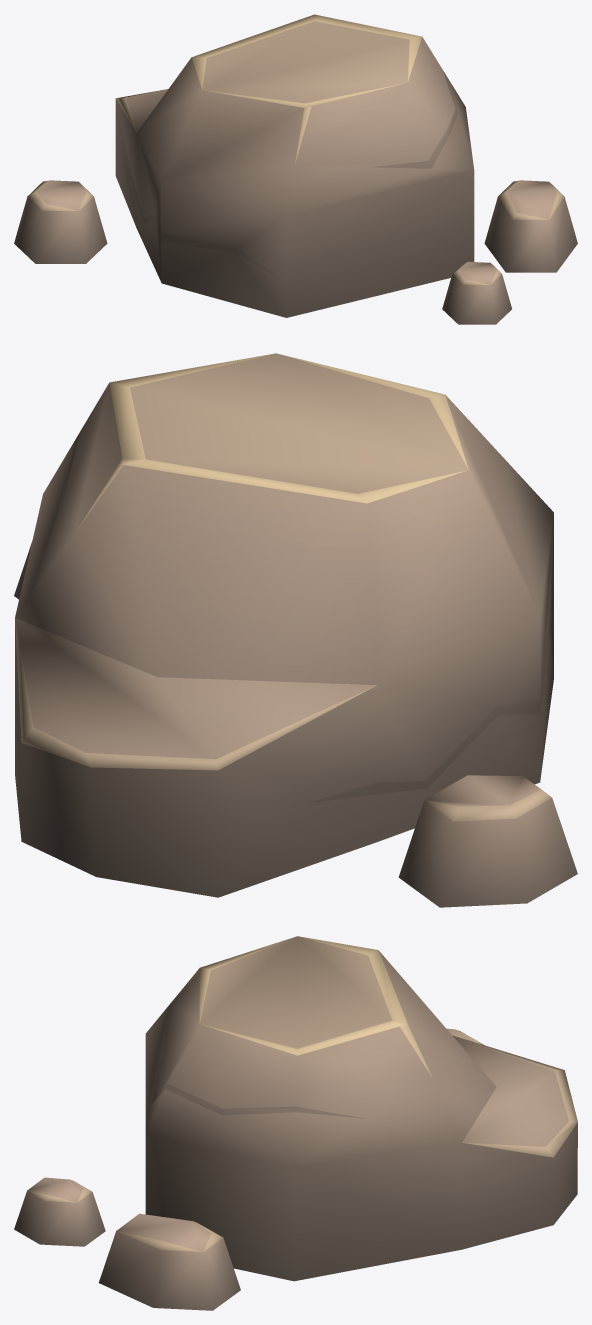
File: rocksSm_A.fbx
The picture shows the model from 3 angles, top to bottom: view 1: azimuth 30°, elevation 25°; view 2: azimuth 150°, elevation 25°; view 3: azimuth 270°, elevation 25°; orthographic projection. The views are drawn at different scales.
Parts seen in each view (by area): view 1: rocksSm_A; view 2: rocksSm_A; view 3: rocksSm_A.
Boxes of the visible parts, bbox=[...] form: rocksSm_A: bbox=[14, 14, 577, 324]; rocksSm_A: bbox=[14, 353, 577, 907]; rocksSm_A: bbox=[14, 936, 577, 1310].
Size of the model in its own units: 142 by 56.8 by 143.
